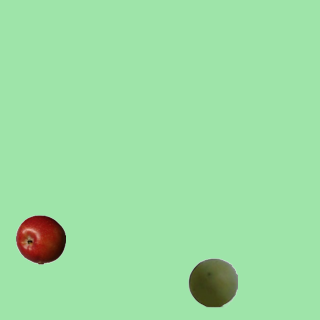Apple Braeburn: (15, 214, 65, 264)
Grape White 4: (187, 257, 237, 307)
